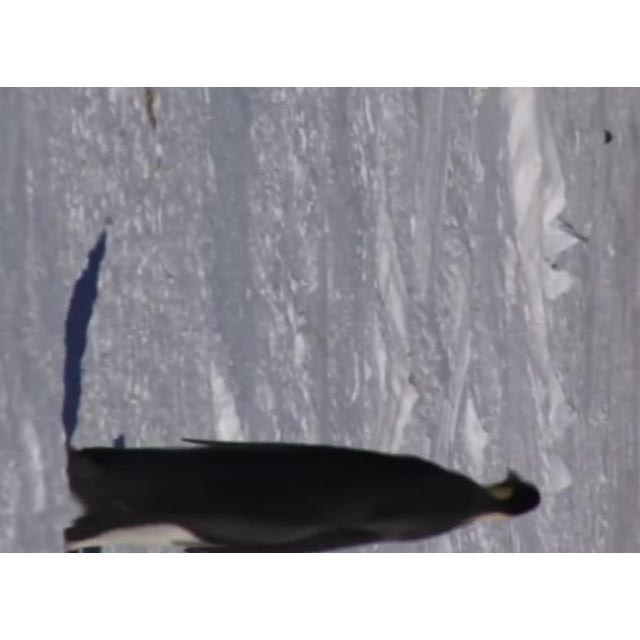penguin: (61, 437, 541, 551)
